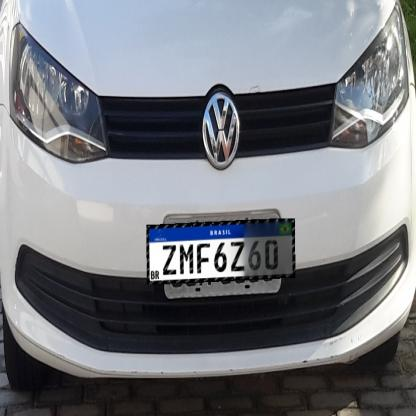PlacaM: (146, 218, 296, 284)
